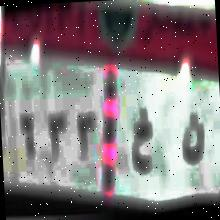3: (72, 96, 98, 165), (46, 112, 70, 162)
6: (18, 104, 37, 165)
khaa: (128, 106, 156, 178)
noon: (178, 107, 206, 170)
